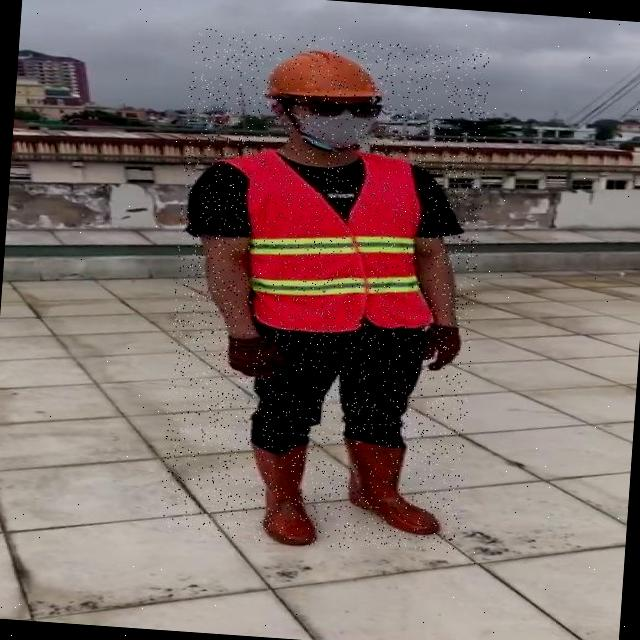boots: (342, 437, 450, 534), (244, 444, 324, 544)
helmet: (253, 42, 389, 105)
vest: (237, 148, 438, 338)
